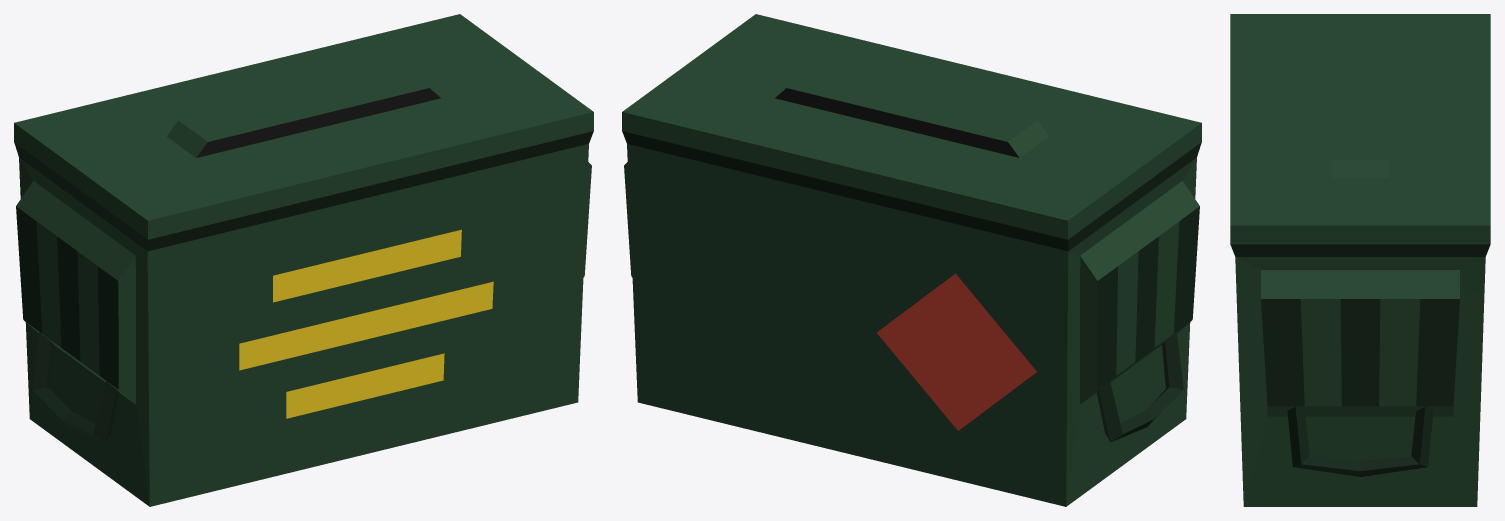
File: weapons_ammo-box-explosives.fbx
3 renders of one model, left to right at view 1: azimuth 30°, elevation 25°; view 2: azimuth 150°, elevation 25°; view 3: azimuth 270°, elevation 25°, orthographic. The views are drawn at different scales.
Parts seen in each view (by area): view 1: weapons_ammo_box_explosives; view 2: weapons_ammo_box_explosives; view 3: weapons_ammo_box_explosives.
Boxes of the visible parts, x1=… form: weapons_ammo_box_explosives: x1=14, y1=14, x2=593, y2=506; weapons_ammo_box_explosives: x1=622, y1=14, x2=1201, y2=506; weapons_ammo_box_explosives: x1=1230, y1=14, x2=1490, y2=506.
Size of the model in its own units: 200 by 121 by 95.83.
